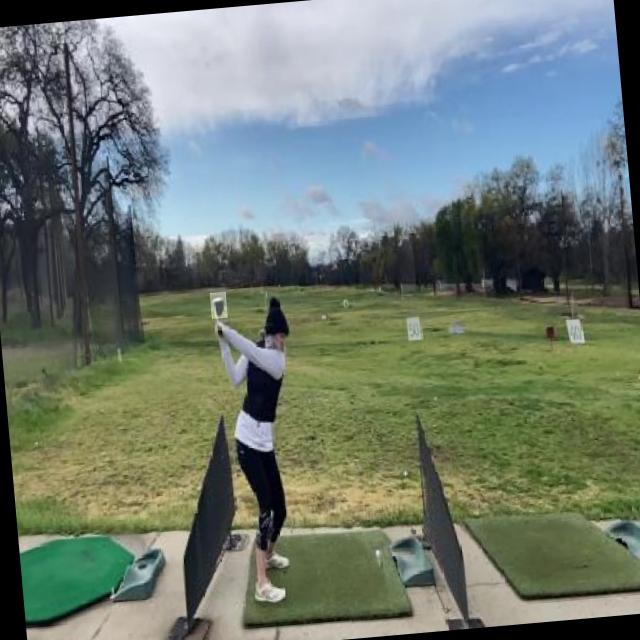club head: (210, 292, 228, 318)
